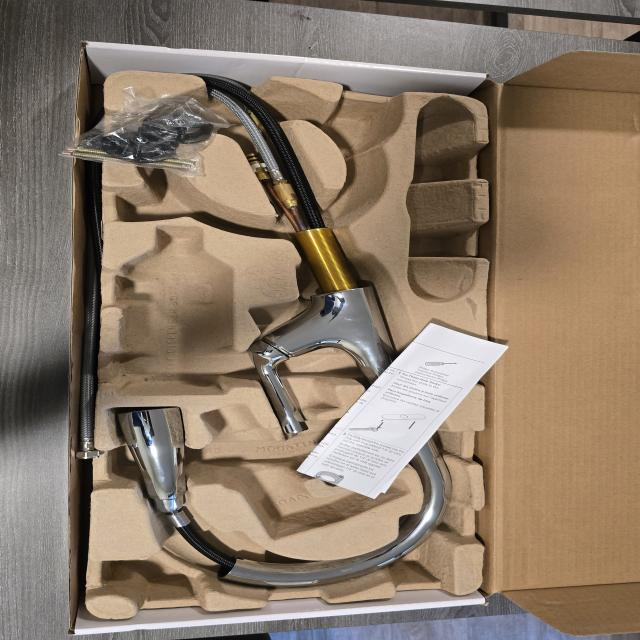1o: (118, 76, 454, 590)
2m: (199, 405, 405, 538)
3m: (118, 226, 230, 396)
4m: (407, 97, 480, 304)
5m: (322, 103, 392, 148)
6m: (113, 159, 236, 223)
7: (57, 82, 235, 174)
8: (297, 321, 513, 499)
